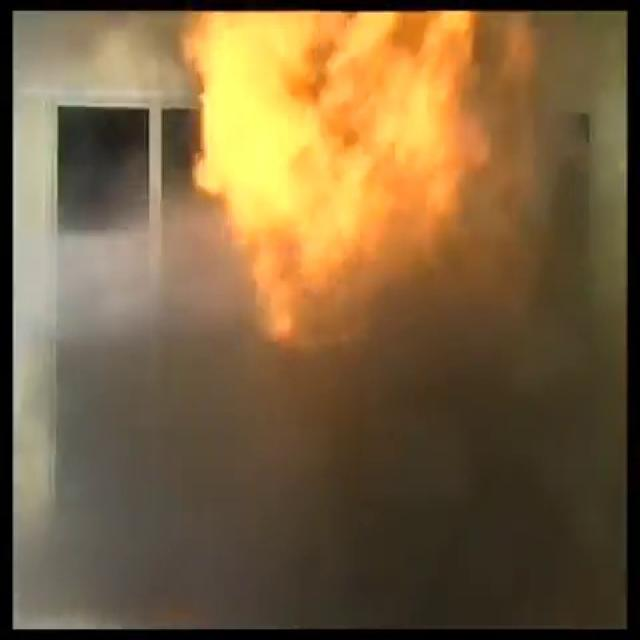Fire: (189, 15, 483, 328)
Smoke: (62, 340, 617, 628)
